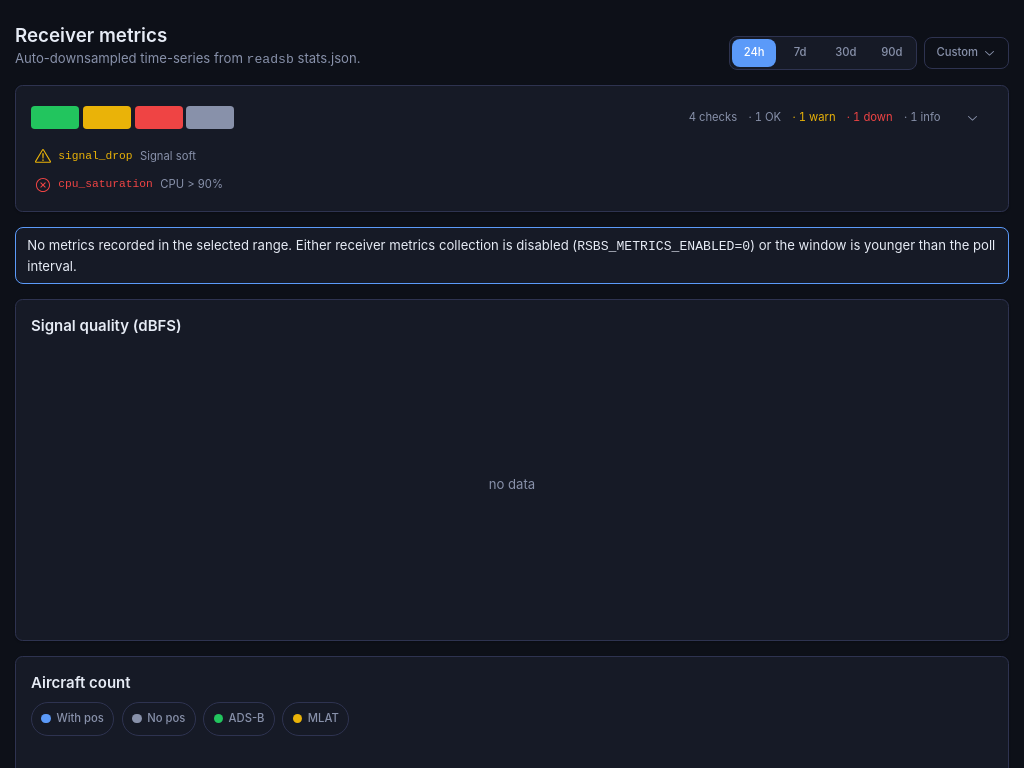
Test: HealthStripe — happy path with 4 checks › expanded detail rows carry id + data-status for each severity
Step 1. Click the button with test id "metrics-health-toggle" → (972, 117), box [952,97,993,138]
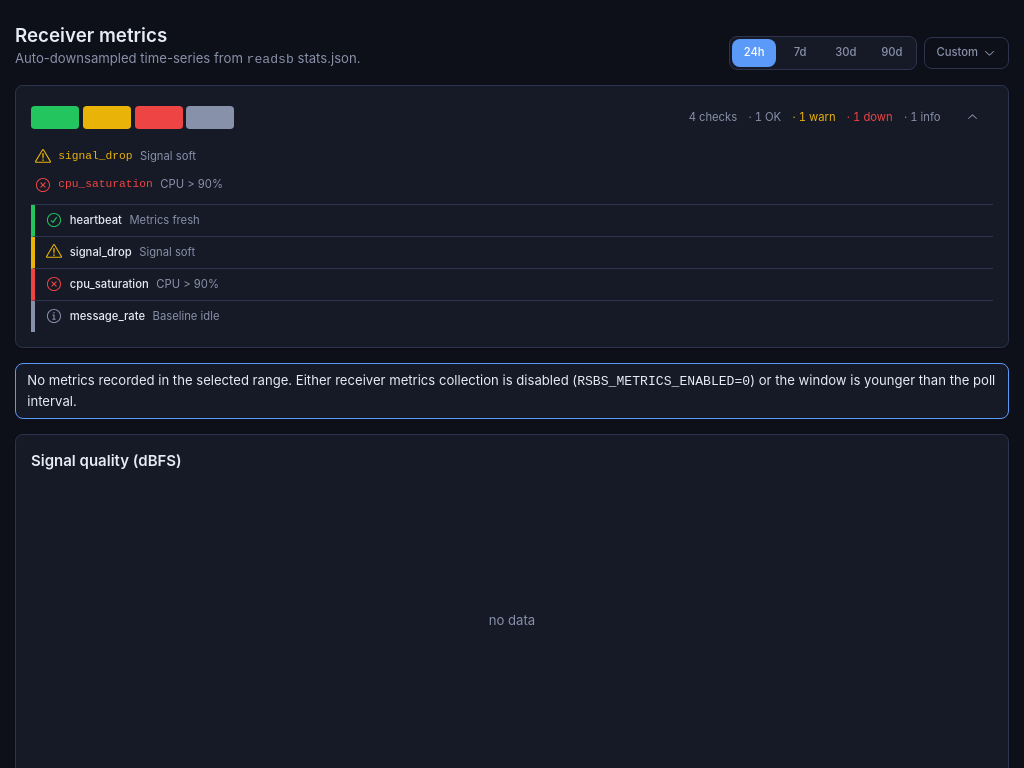
Now the list item with test id "metrics-health-check-heartbeat" is shown, box [31,205,993,237]
